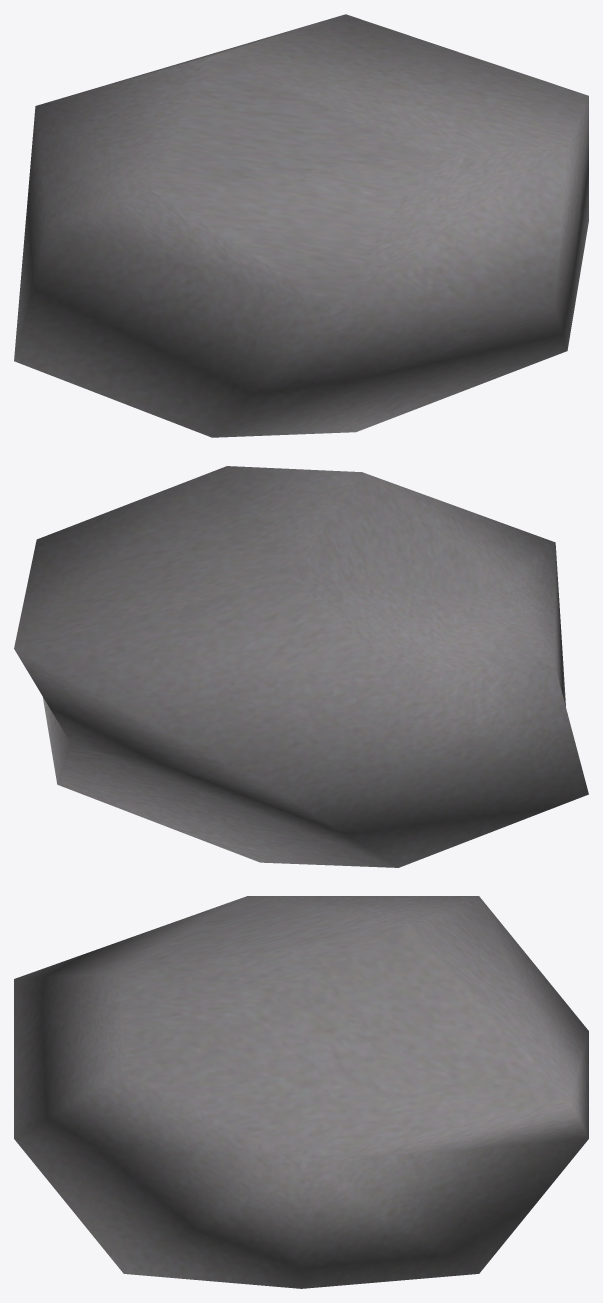
Rendered from stone.obj.
The picture shows the model from 3 angles, top to bottom: view 1: azimuth 30°, elevation 25°; view 2: azimuth 150°, elevation 25°; view 3: azimuth 270°, elevation 25°; orthographic projection. The views are drawn at different scales.
Size of the model in its own units: 1.87 by 0.9456 by 1.61.
Materials: 1 (1 with a texture image).
